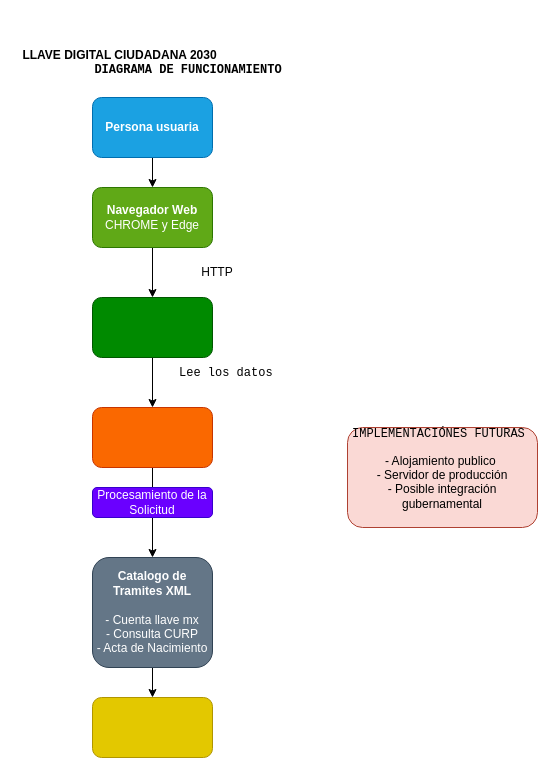
Image size: 555x775. Some labels were removed from this diagram. Each missing label, with the box of its shape:
Aplicación Web HTML + CSS + JavaScript: (92, 406, 212, 468)
Mostrar resultados al usuario: (92, 696, 212, 758)
Servidor Web - Live server: (92, 296, 212, 358)
